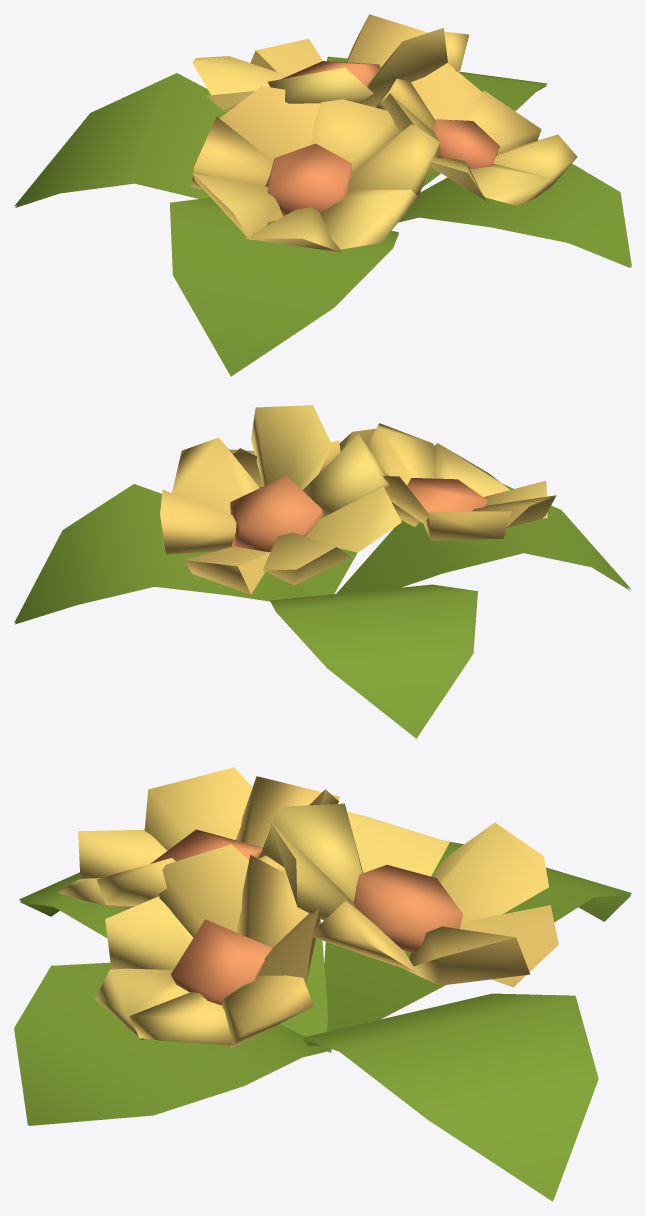
The model's file is Furniture_Vegetation_4.fbx.
3 views of the same model, one above another, from view 1: azimuth 30°, elevation 25°; view 2: azimuth 150°, elevation 25°; view 3: azimuth 270°, elevation 25° (orthographic). The views are drawn at different scales.
Visible parts, largest first — view 1: Furniture_Vegetation_4; view 2: Furniture_Vegetation_4; view 3: Furniture_Vegetation_4.
Boxes of the visible parts, left/top/right/bottom form: Furniture_Vegetation_4: left=14, top=14, right=631, bottom=376; Furniture_Vegetation_4: left=14, top=405, right=631, bottom=738; Furniture_Vegetation_4: left=14, top=767, right=631, bottom=1201.
Bounding box in the file's own units: 94.27 × 39 × 85.61.
